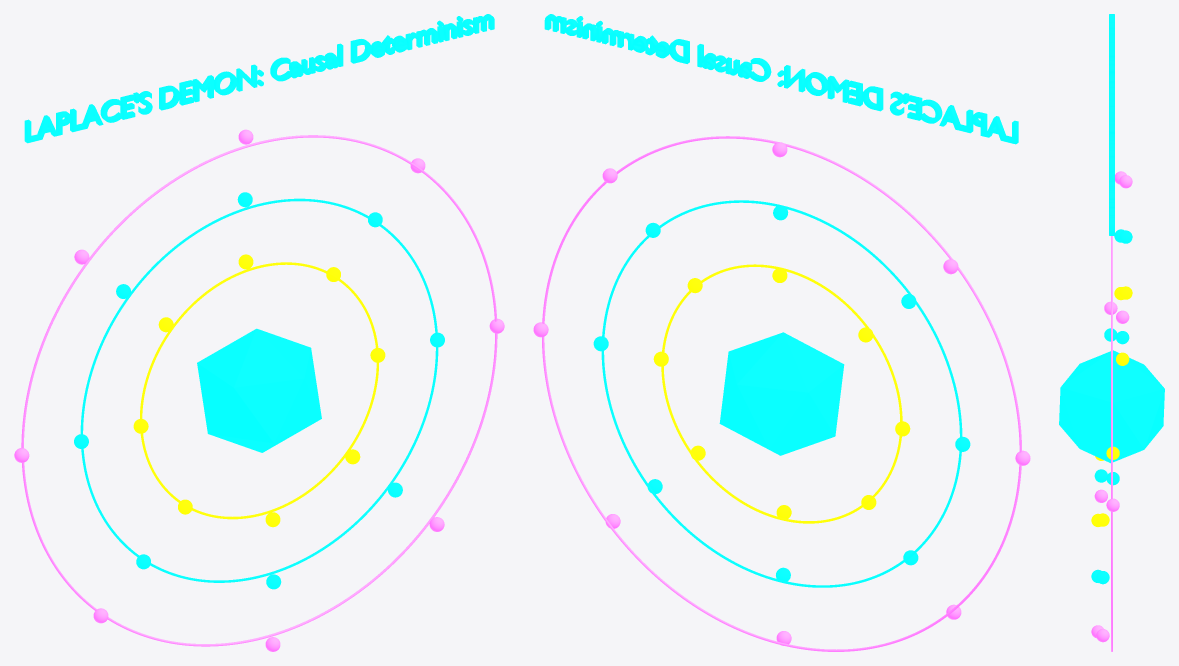
The model's file is laplace_demon.glb.
The picture shows the model from 3 angles, left to right: view 1: azimuth 30°, elevation 25°; view 2: azimuth 150°, elevation 25°; view 3: azimuth 270°, elevation 25°; orthographic projection. The views are drawn at different scales.
Visible parts, largest first — view 1: Icosphere.001, Text, Ring_2, Ring_1, Ring_0; view 2: Icosphere.001, Text, Ring_2, Ring_1, Ring_0; view 3: Icosphere.001, Text, Ring_2.
Boxes of the visible parts, x1,y1,x2,y2 form: Icosphere.001: [197, 328, 321, 452]; Text: [24, 14, 494, 143]; Ring_2: [21, 135, 497, 646]; Ring_1: [80, 198, 438, 582]; Ring_0: [140, 262, 378, 519]; Icosphere.001: [719, 332, 844, 455]; Text: [544, 14, 1018, 144]; Ring_2: [542, 136, 1021, 651]; Ring_1: [601, 200, 962, 587]; Ring_0: [661, 264, 902, 523]; Icosphere.001: [1059, 350, 1164, 463]; Text: [1109, 14, 1114, 235]; Ring_2: [1111, 236, 1112, 651].
Size of the model in its own units: 9.04 by 10.29 by 1.9.
